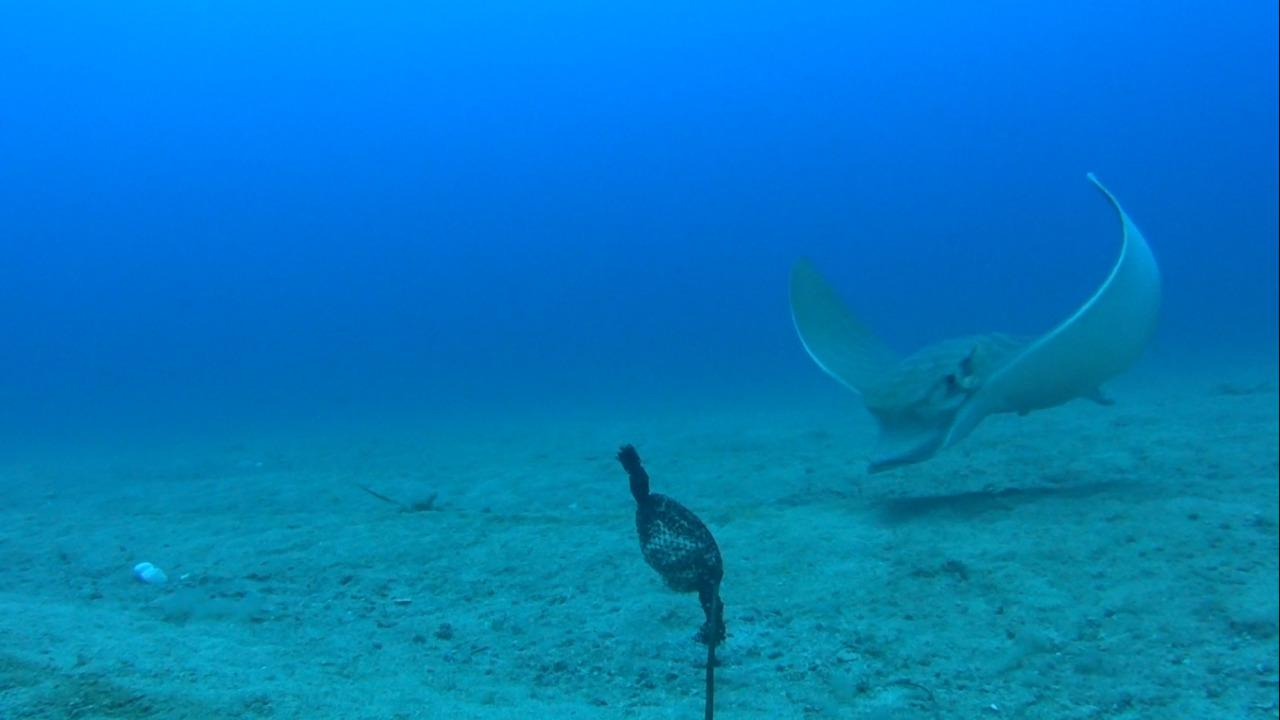myliobatis: (777, 163, 1177, 478)
